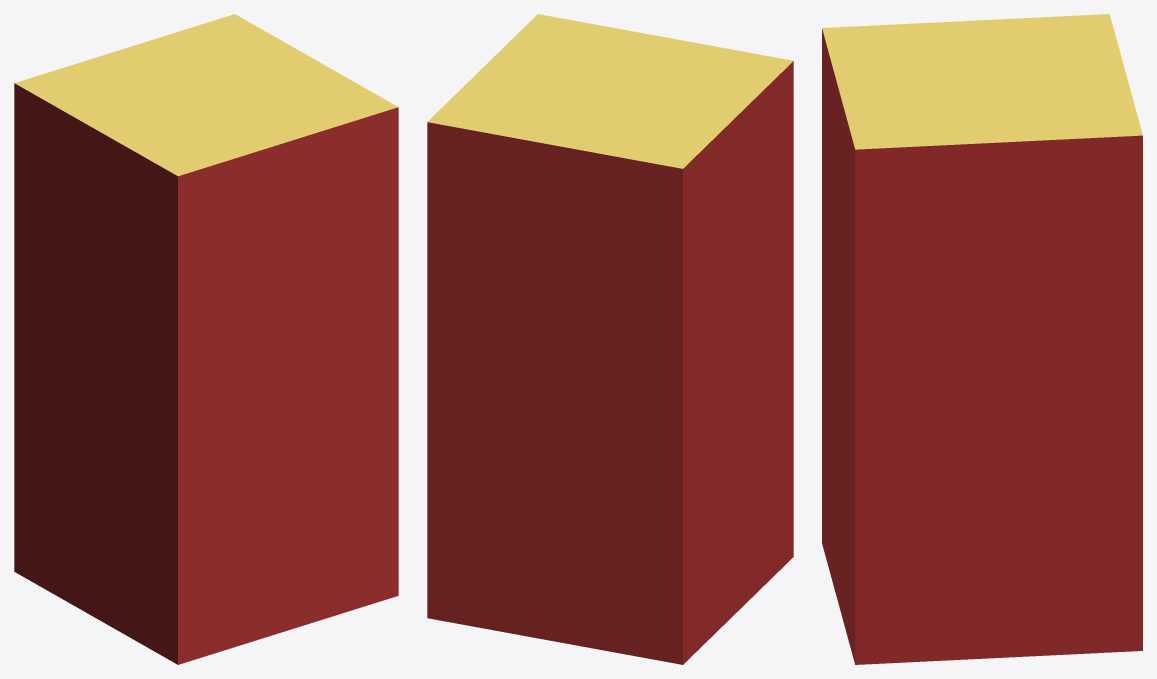
File: Garage_Bottle4.fbx
The picture shows the model from 3 angles, left to right: view 1: azimuth 30°, elevation 25°; view 2: azimuth 150°, elevation 25°; view 3: azimuth 270°, elevation 25°; orthographic projection. The views are drawn at different scales.
Visible parts, largest first — view 1: Garage_Bottle4; view 2: Garage_Bottle4; view 3: Garage_Bottle4.
Boxes of the visible parts, bbox=[...] form: Garage_Bottle4: bbox=[14, 14, 398, 664]; Garage_Bottle4: bbox=[427, 14, 793, 664]; Garage_Bottle4: bbox=[822, 14, 1142, 664].
Size of the model in its own units: 10.27 by 18.19 by 10.27.
